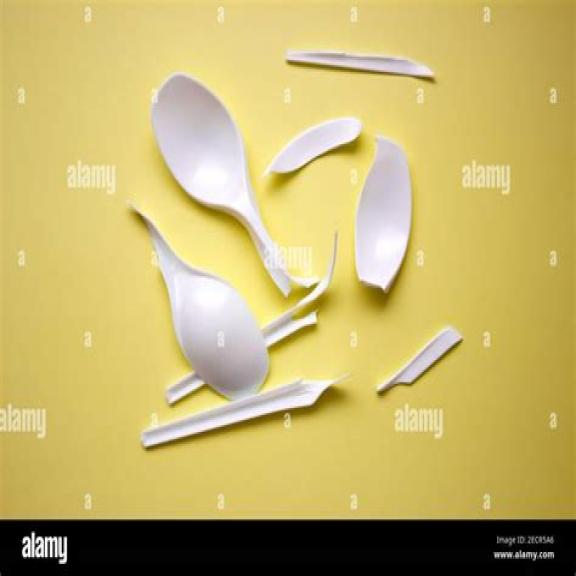Plastik: (152, 74, 317, 296), (128, 203, 269, 399), (141, 374, 348, 447), (355, 136, 411, 293), (262, 235, 337, 347), (264, 117, 362, 176), (377, 328, 462, 392), (286, 50, 433, 78)
